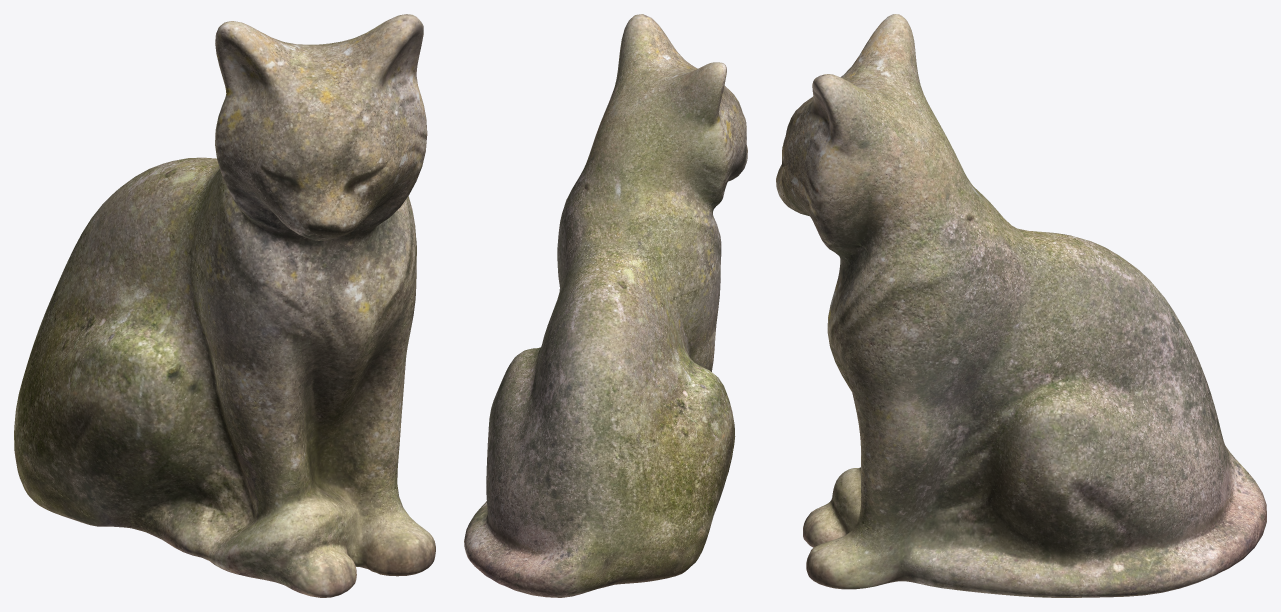
The picture shows the model from 3 angles, left to right: view 1: azimuth 30°, elevation 25°; view 2: azimuth 150°, elevation 25°; view 3: azimuth 270°, elevation 25°; orthographic projection. The views are drawn at different scales.
Visible parts, largest first — view 1: concrete_cat_statue; view 2: concrete_cat_statue; view 3: concrete_cat_statue.
Part boxes in pixels (x1=…): concrete_cat_statue: x1=14, y1=14, x2=435, y2=597; concrete_cat_statue: x1=464, y1=14, x2=747, y2=597; concrete_cat_statue: x1=776, y1=14, x2=1266, y2=597.
Size of the model in its own units: 0.153 by 0.283 by 0.25.
Materials: 1 (1 with a texture image).
